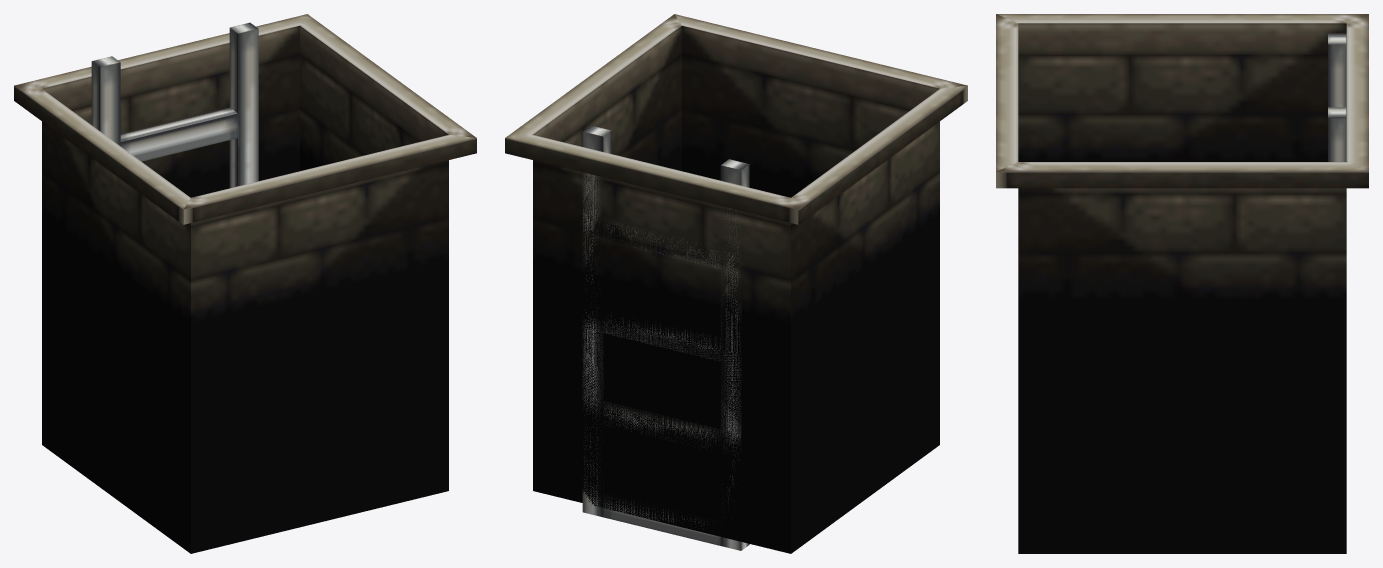
The model's file is Inside_Poly_Hole_Ladder_02_Down.obj.
The picture shows the model from 3 angles, left to right: view 1: azimuth 30°, elevation 25°; view 2: azimuth 150°, elevation 25°; view 3: azimuth 270°, elevation 25°; orthographic projection. The views are drawn at different scales.
Parts seen in each view (by area): view 1: Cube, Cube.002; view 2: Cube, Cube.002; view 3: Cube, Cube.002.
Boxes of the visible parts, x1,y1,x2,y2 form: Cube: (14,14,476,553); Cube.002: (91,22,258,188); Cube: (505,14,967,553); Cube.002: (582,125,749,550); Cube: (996,14,1368,553); Cube.002: (1328,33,1346,161).
Bounding box in the file's own units: 1 × 1.24 × 1.
Materials: 1 (1 with a texture image).
